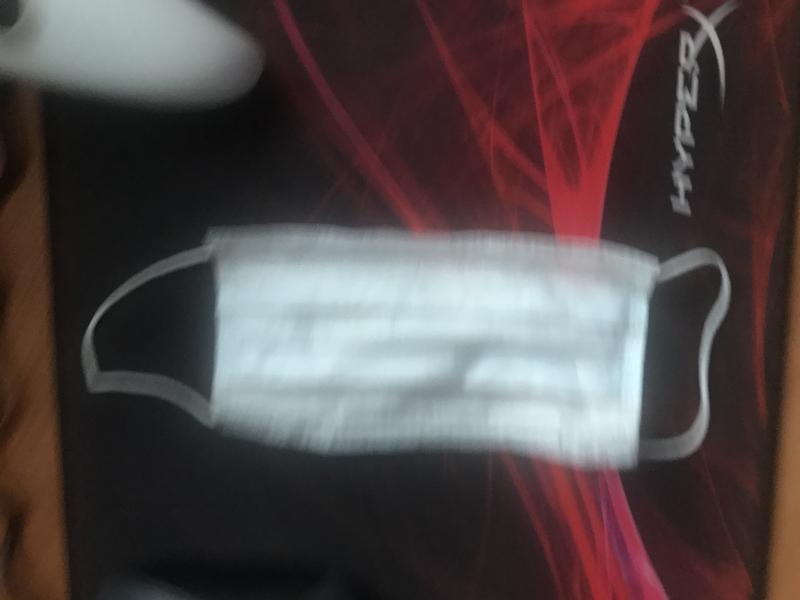medical_mask: (85, 231, 725, 464)
